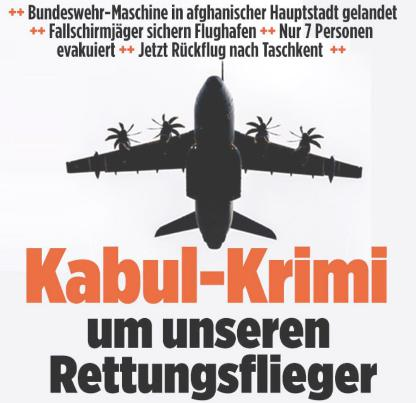A400M: (64, 59, 362, 248)
